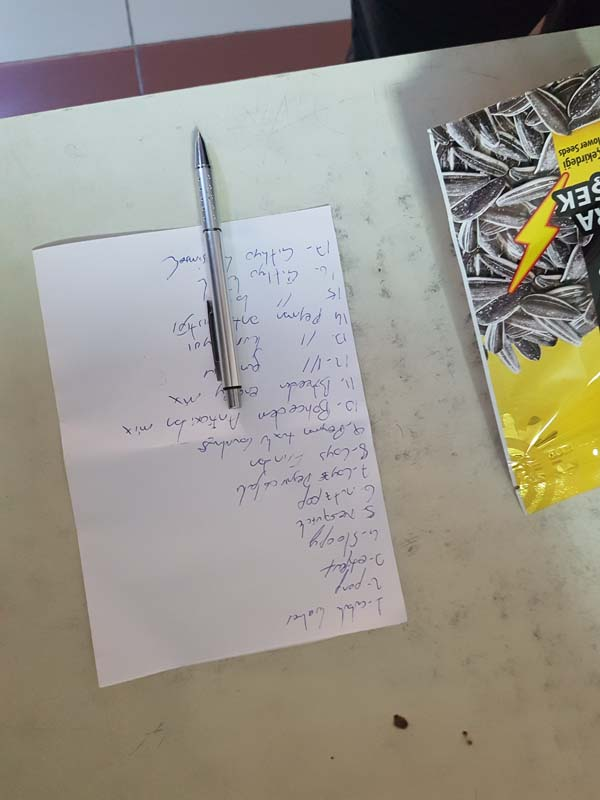citliyorkarasisimsek: (415, 65, 600, 513)
